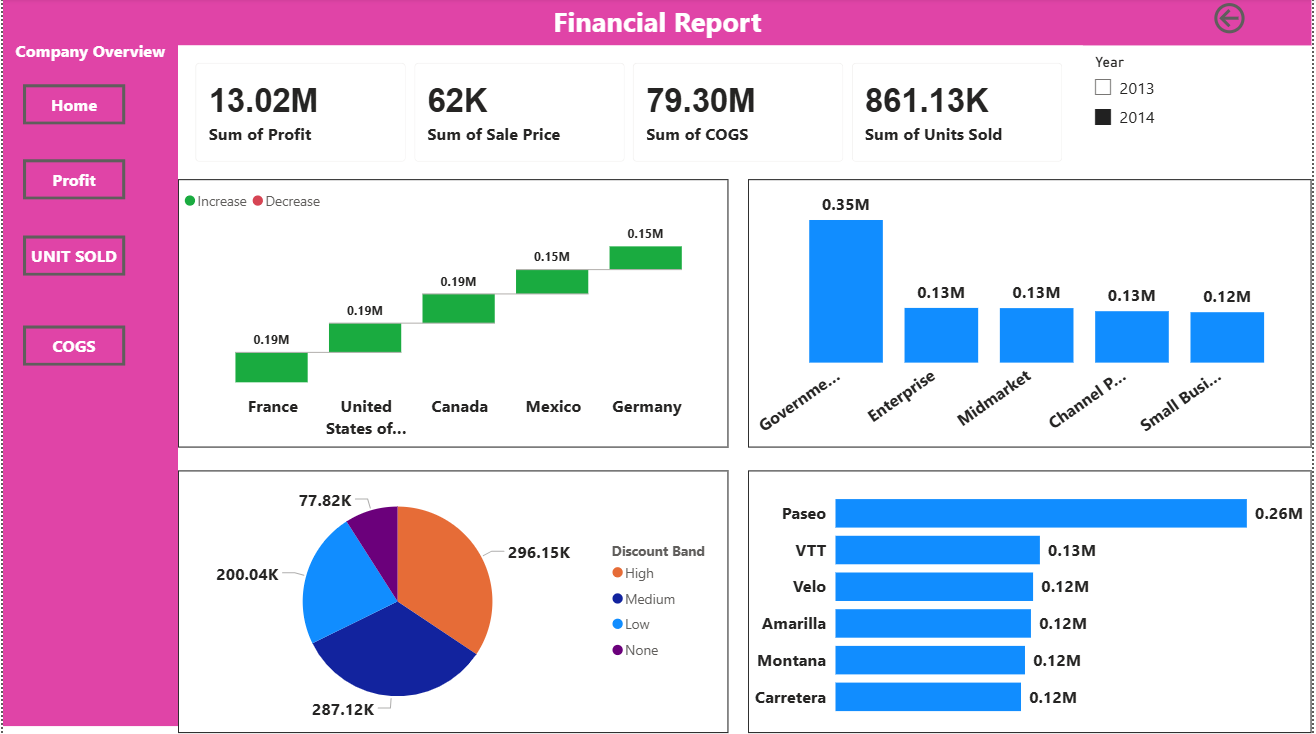

The dashboard page shown, as its layout file describes it:
{"tool":"powerbi","page":{"name":"Profit","canvas":[1280,720],"ordinal":1},"visuals":[{"type":"textbox","box":[0,0,1280.2,46.5],"z":0},{"type":"textbox","box":[0,34.9,170.9,676.7],"z":1000},{"type":"actionButton","box":[19.8,84.9,100,39.5],"z":2000},{"type":"actionButton","box":[19.8,158.1,100,39.5],"z":3000},{"type":"actionButton","box":[18.6,232.6,100,39.5],"z":4000},{"type":"actionButton","box":[18.6,301.2,100,39.5],"z":5000},{"type":"pieChart","fields":{"Category":["financials.Discount Band"],"Y":["Sum(financials.Profit)"]},"box":[170.9,462.8,538.4,257],"z":6000},{"type":"cardVisual","fields":{"Data":["Sum(financials.Profit)","Sum(financials.Sale Price)","Sum(financials.COGS)","Sum(financials.Units Sold)"]},"box":[170.9,46.5,884.9,131.4],"z":8000},{"type":"slicer","fields":{"Values":["financials.Date.Variation.Date Hierarchy.Year"]},"box":[1055.8,48.8,224.4,129.1],"z":9000},{"type":"waterfallChart","fields":{"Category":["financials.Country"],"Y":["Sum(financials.Profit)"]},"box":[170.9,177.9,538.4,262.8],"z":10000},{"type":"clusteredColumnChart","fields":{"Y":["Sum(financials.Profit)"],"Category":["financials.Segment"]},"box":[729.1,177.9,551.2,262.8],"z":11000},{"type":"barChart","fields":{"Category":["financials.Product"],"Y":["Sum(financials.Profit)"]},"box":[729.1,462.8,551.2,257],"z":12000}]}

Visuals, with their boxes in screenshot pixels (x1, y1, x2, y2), scaled from the page's 1280x720 canvas onto the 1316x734 screenshot:
textbox: 0,0,1315,47
textbox: 0,36,176,725
actionButton: 20,87,123,127
actionButton: 20,161,123,201
actionButton: 19,237,122,277
actionButton: 19,307,122,347
pieChart - financials.Discount Band x Sum(financials.Profit): 176,472,729,733
cardVisual - Sum(financials.Profit) x Sum(financials.Sale Price): 176,47,1085,181
slicer - financials.Date.Variation.Date Hierarchy.Year: 1085,50,1315,181
waterfallChart - financials.Country x Sum(financials.Profit): 176,181,729,449
clusteredColumnChart - Sum(financials.Profit) x financials.Segment: 750,181,1315,449
barChart - financials.Product x Sum(financials.Profit): 750,472,1315,733
